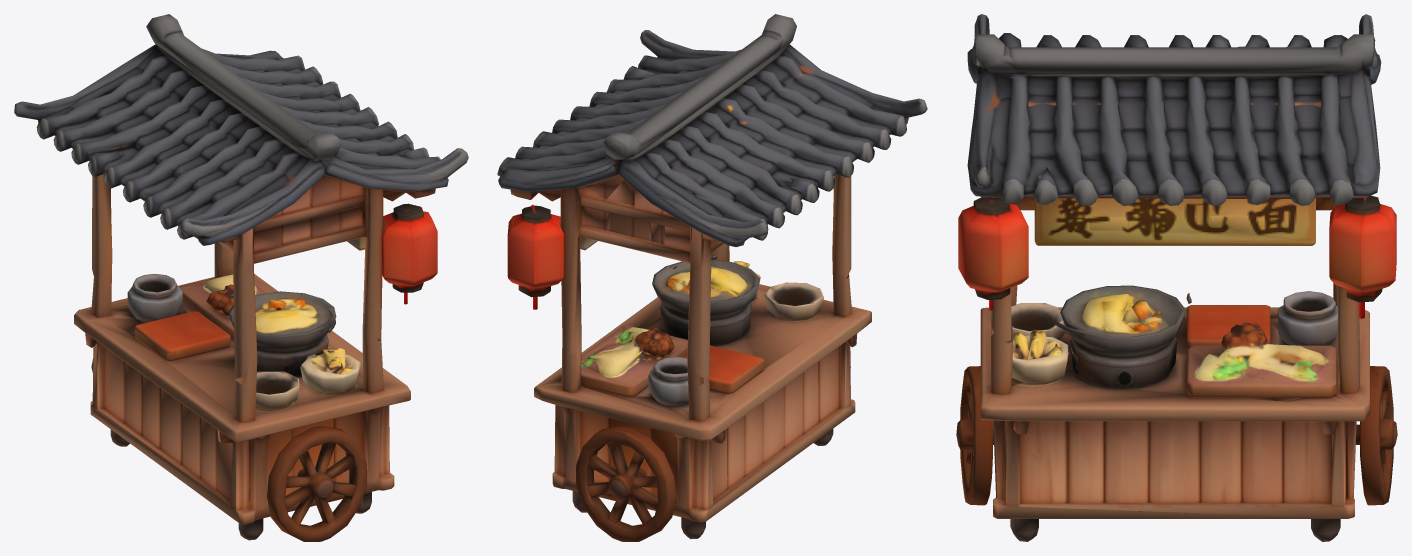
File: noodle_stall.glb
3 renders of one model, left to right at view 1: azimuth 30°, elevation 25°; view 2: azimuth 150°, elevation 25°; view 3: azimuth 270°, elevation 25°, orthographic. The views are drawn at different scales.
Parts seen in each view (by area): view 1: tripo_node_5814c684-4de1-43a6-83cf-3300a8d5de1a; view 2: tripo_node_5814c684-4de1-43a6-83cf-3300a8d5de1a; view 3: tripo_node_5814c684-4de1-43a6-83cf-3300a8d5de1a.
Part boxes in pixels (x1,y1,x2,y2): tripo_node_5814c684-4de1-43a6-83cf-3300a8d5de1a: [14, 14, 468, 541]; tripo_node_5814c684-4de1-43a6-83cf-3300a8d5de1a: [497, 14, 927, 541]; tripo_node_5814c684-4de1-43a6-83cf-3300a8d5de1a: [956, 14, 1397, 541].
Bounding box in the file's own units: 0.7417 × 0.9794 × 0.8299.
Materials: 1 (1 with a texture image).
